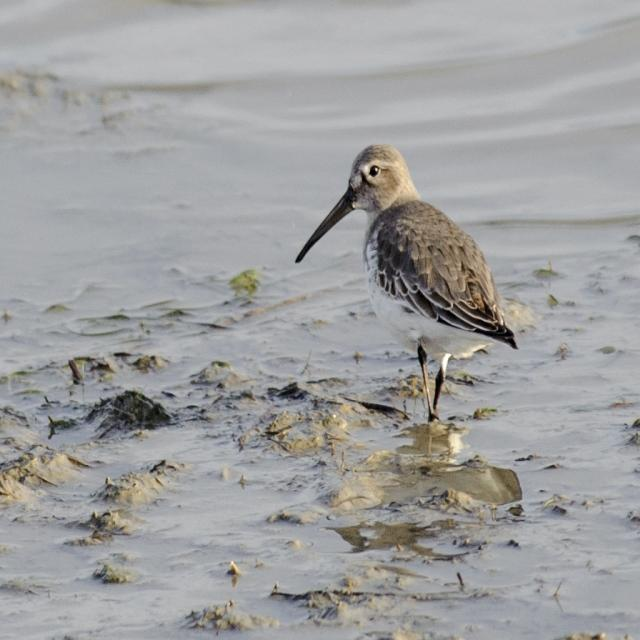bird: (294, 148, 519, 429)
